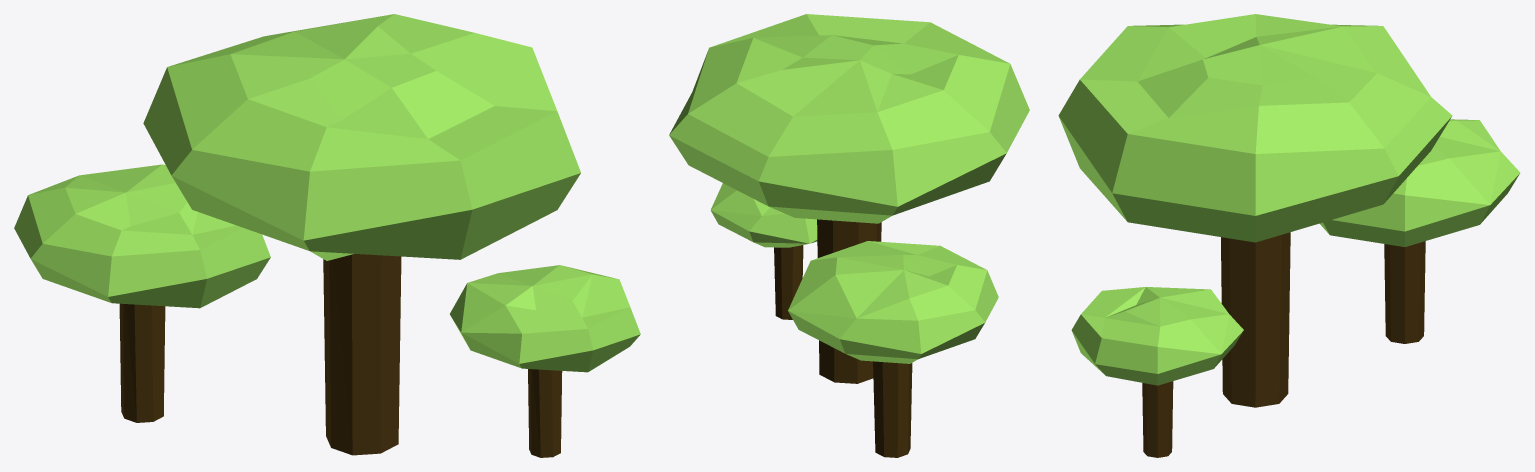
File: Plant_02.fbx
3 views of the same model, side by side, from view 1: azimuth 30°, elevation 25°; view 2: azimuth 150°, elevation 25°; view 3: azimuth 270°, elevation 25° (orthographic). The views are drawn at different scales.
Visible parts, largest first — view 1: Plant_02; view 2: Plant_02; view 3: Plant_02.
Part boxes in pixels (x1,y1,x2,y2): Plant_02: (14,14,640,457); Plant_02: (669,14,1029,457); Plant_02: (1058,14,1520,457).
Size of the model in its own units: 45.82 by 36.67 by 44.58.
